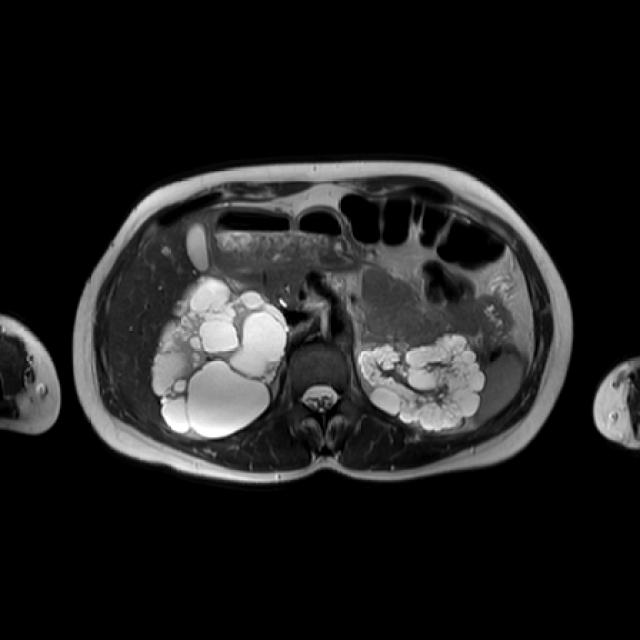sag: (153, 277, 287, 436)
sol: (363, 336, 483, 434)
